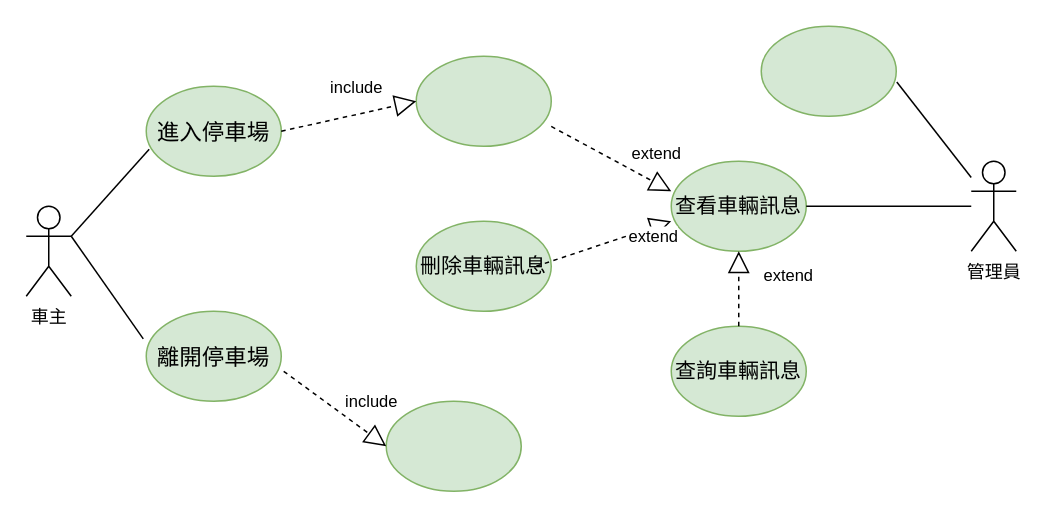
The diagram is 1047 pixels wide and 518 high, and some of its shapes have lost their labels. The box of each missing label's shape, as (x1, y1, x2, y2) in pixels:
增加車輛訊息: (415, 55, 551, 146)
支付費用: (385, 400, 521, 491)
登錄系統: (760, 25, 896, 116)
